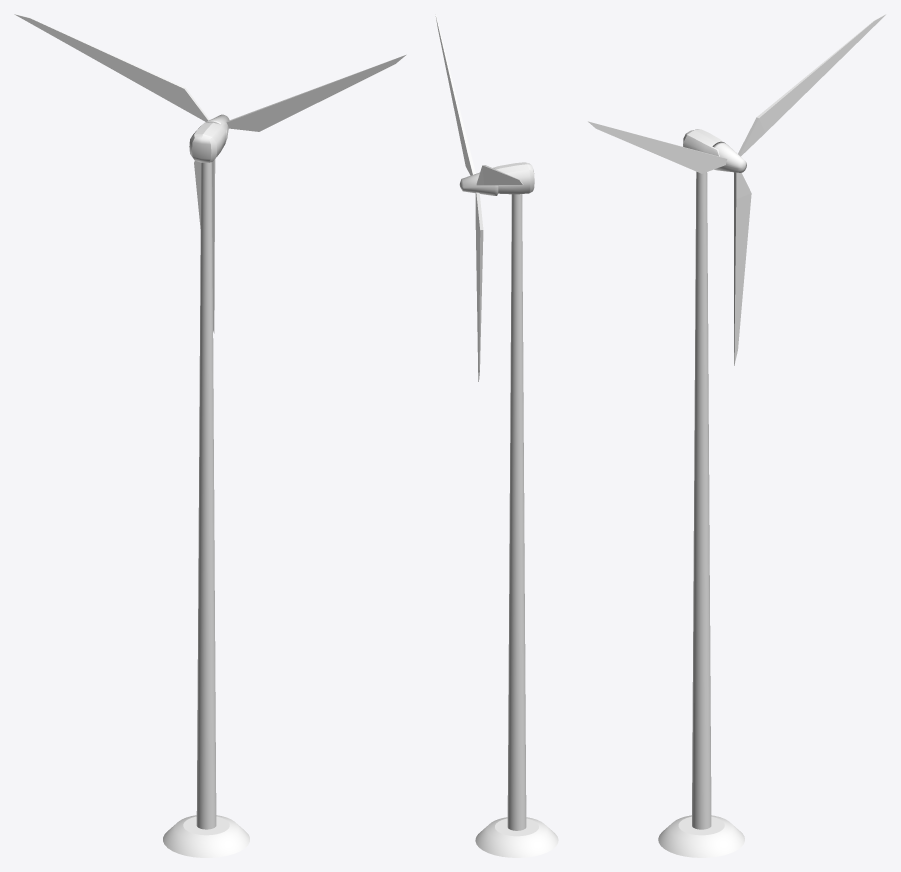
The model's file is Mill2.glb.
3 views of the same model, side by side, from view 1: azimuth 30°, elevation 25°; view 2: azimuth 150°, elevation 25°; view 3: azimuth 270°, elevation 25° (orthographic). The views are drawn at different scales.
Parts seen in each view (by area): view 1: Cylinder.001, Plane.001; view 2: Cylinder.001, Plane.001; view 3: Cylinder.001, Plane.001.
Boxes of the visible parts, x1,y1,x2,y2 form: Cylinder.001: [163, 122, 249, 857]; Plane.001: [14, 14, 406, 333]; Cylinder.001: [475, 162, 558, 857]; Plane.001: [435, 14, 523, 381]; Cylinder.001: [658, 129, 744, 857]; Plane.001: [588, 14, 886, 365].
Size of what is drawn, in the model's own units: 4.66 by 14.52 by 5.
1 material, 1 textured.
